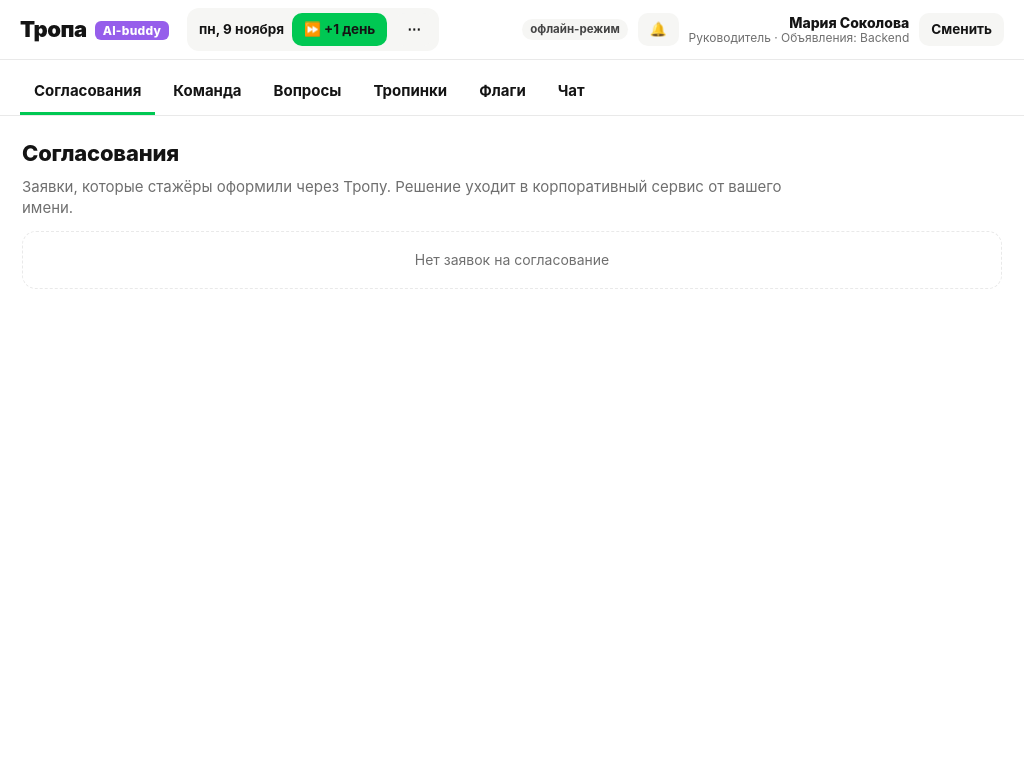
Test: App › [UI-02] lead sees staff tabs and navigates between them
Expected: the text "Нет заявок на согласование" is shown, [22, 231, 1002, 289]
Click the tab "Команда" at coordinates (207, 92), box [159, 70, 256, 115]
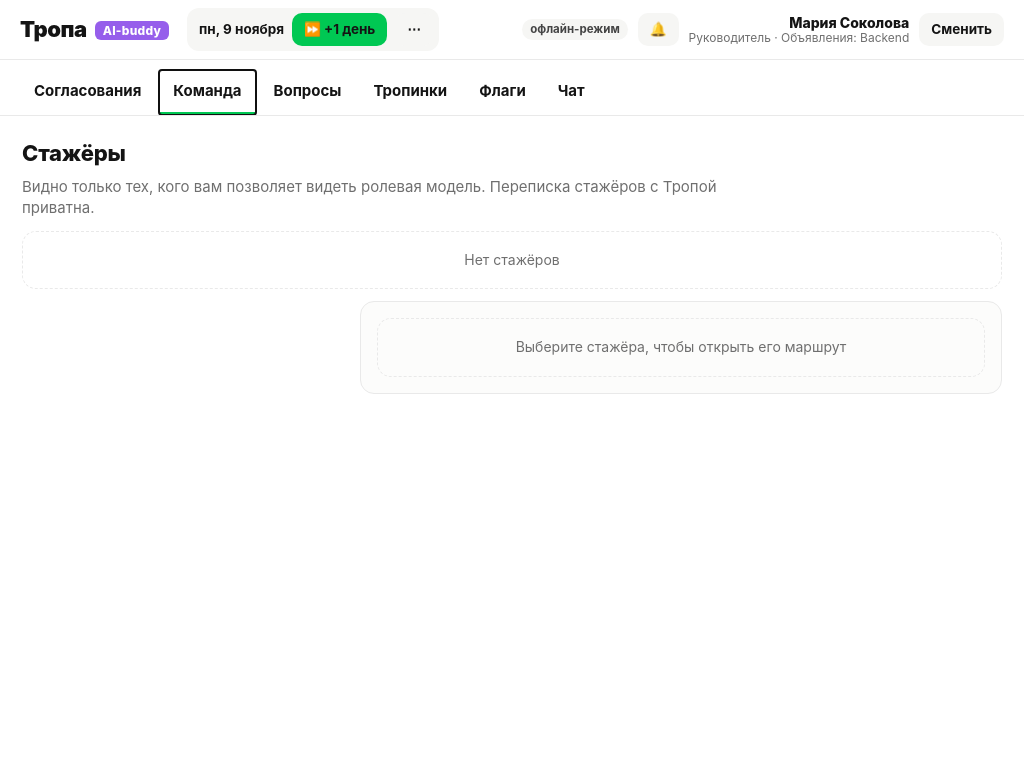
Expected: the text "Нет стажёров" is shown, [22, 231, 1002, 289]
Click the tab "Вопросы" at coordinates (307, 92), box [260, 70, 355, 115]
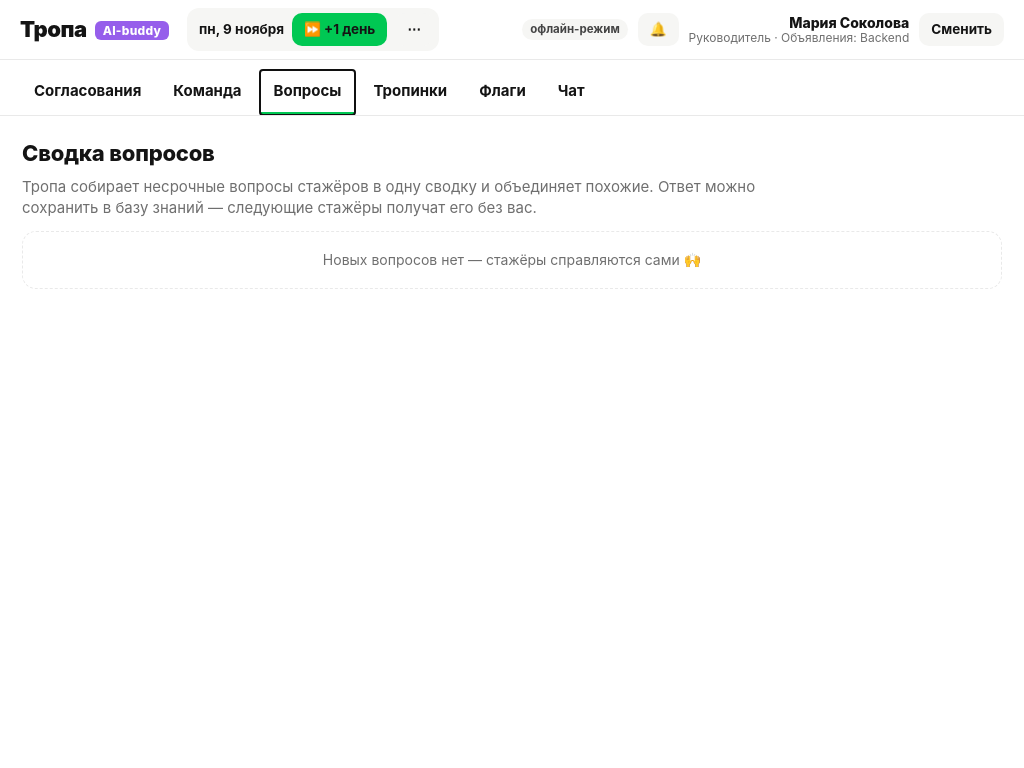
Expected: the text "Новых вопросов нет — стажёры справляются сами 🙌" is shown, [22, 231, 1002, 289]
Click the tab "Тропинки" at coordinates (410, 92), box [359, 70, 461, 115]
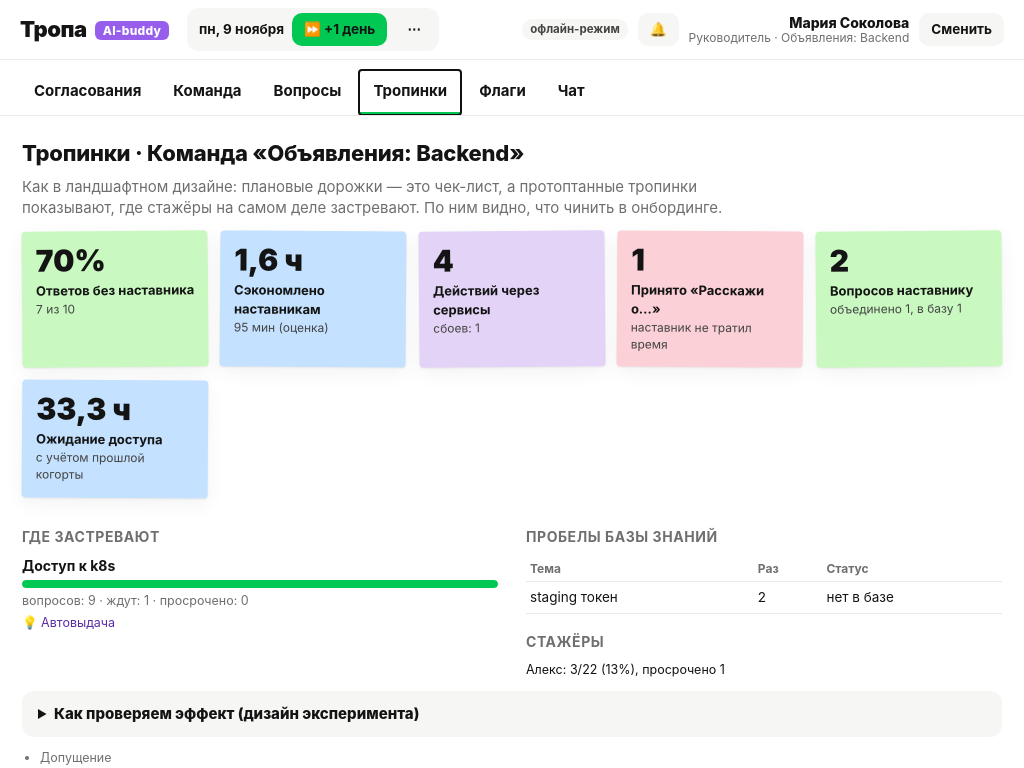
Expected: the heading "Тропинки · Команда «Объявления: Backend»" is shown, [22, 140, 524, 166]
Click the tab "Флаги" at coordinates (502, 92), box [465, 70, 540, 115]
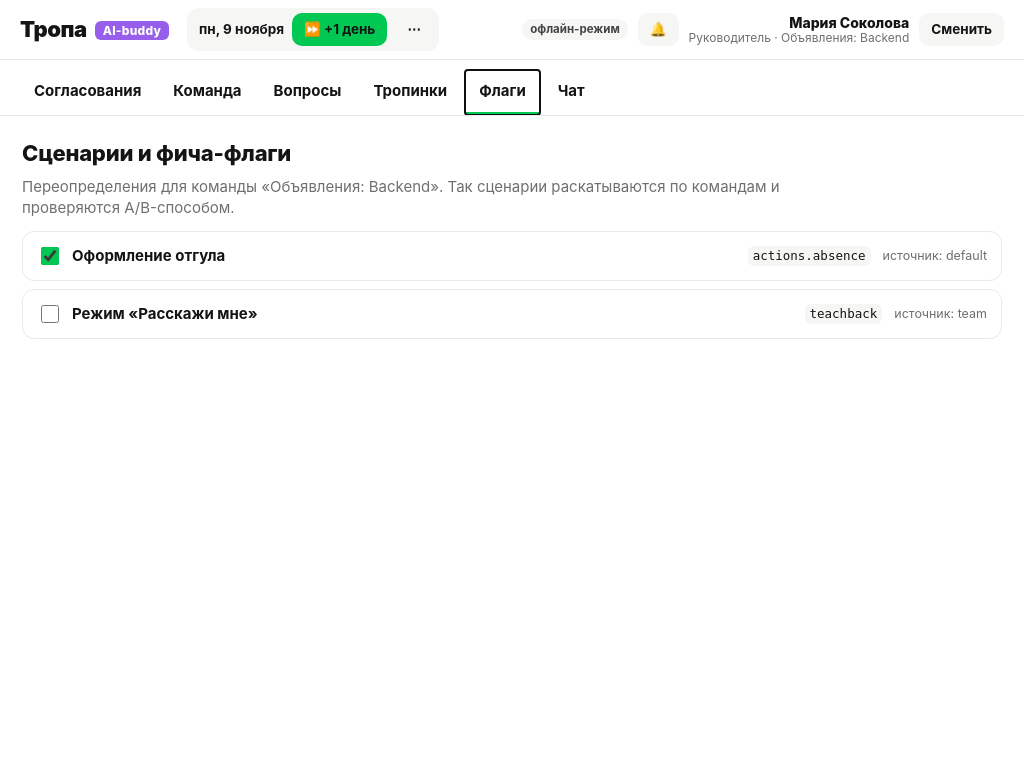
Expected: the heading "Сценарии и фича-флаги" is shown, [22, 140, 291, 166]
Click the tab "Чат" at coordinates (571, 92), box [544, 70, 599, 115]
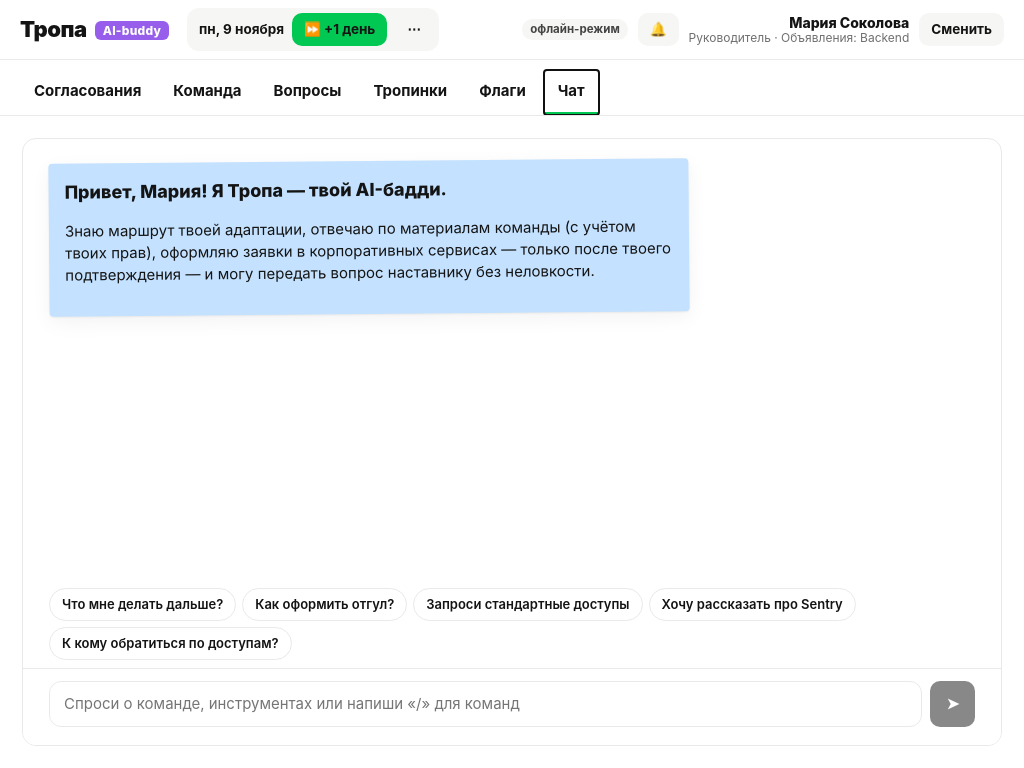
Expected: the text "Привет, Мария! Я Тропа — твой AI-бадди." is shown, [64, 178, 447, 202]
